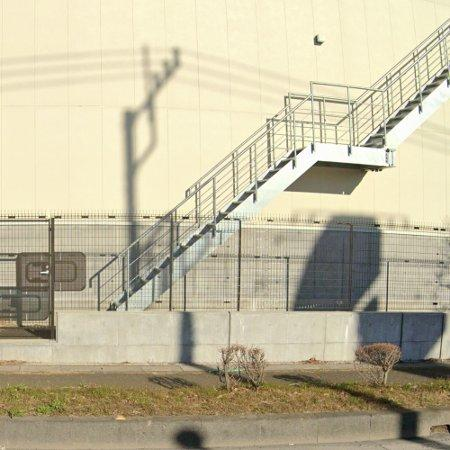stairs: (91, 21, 450, 310)
